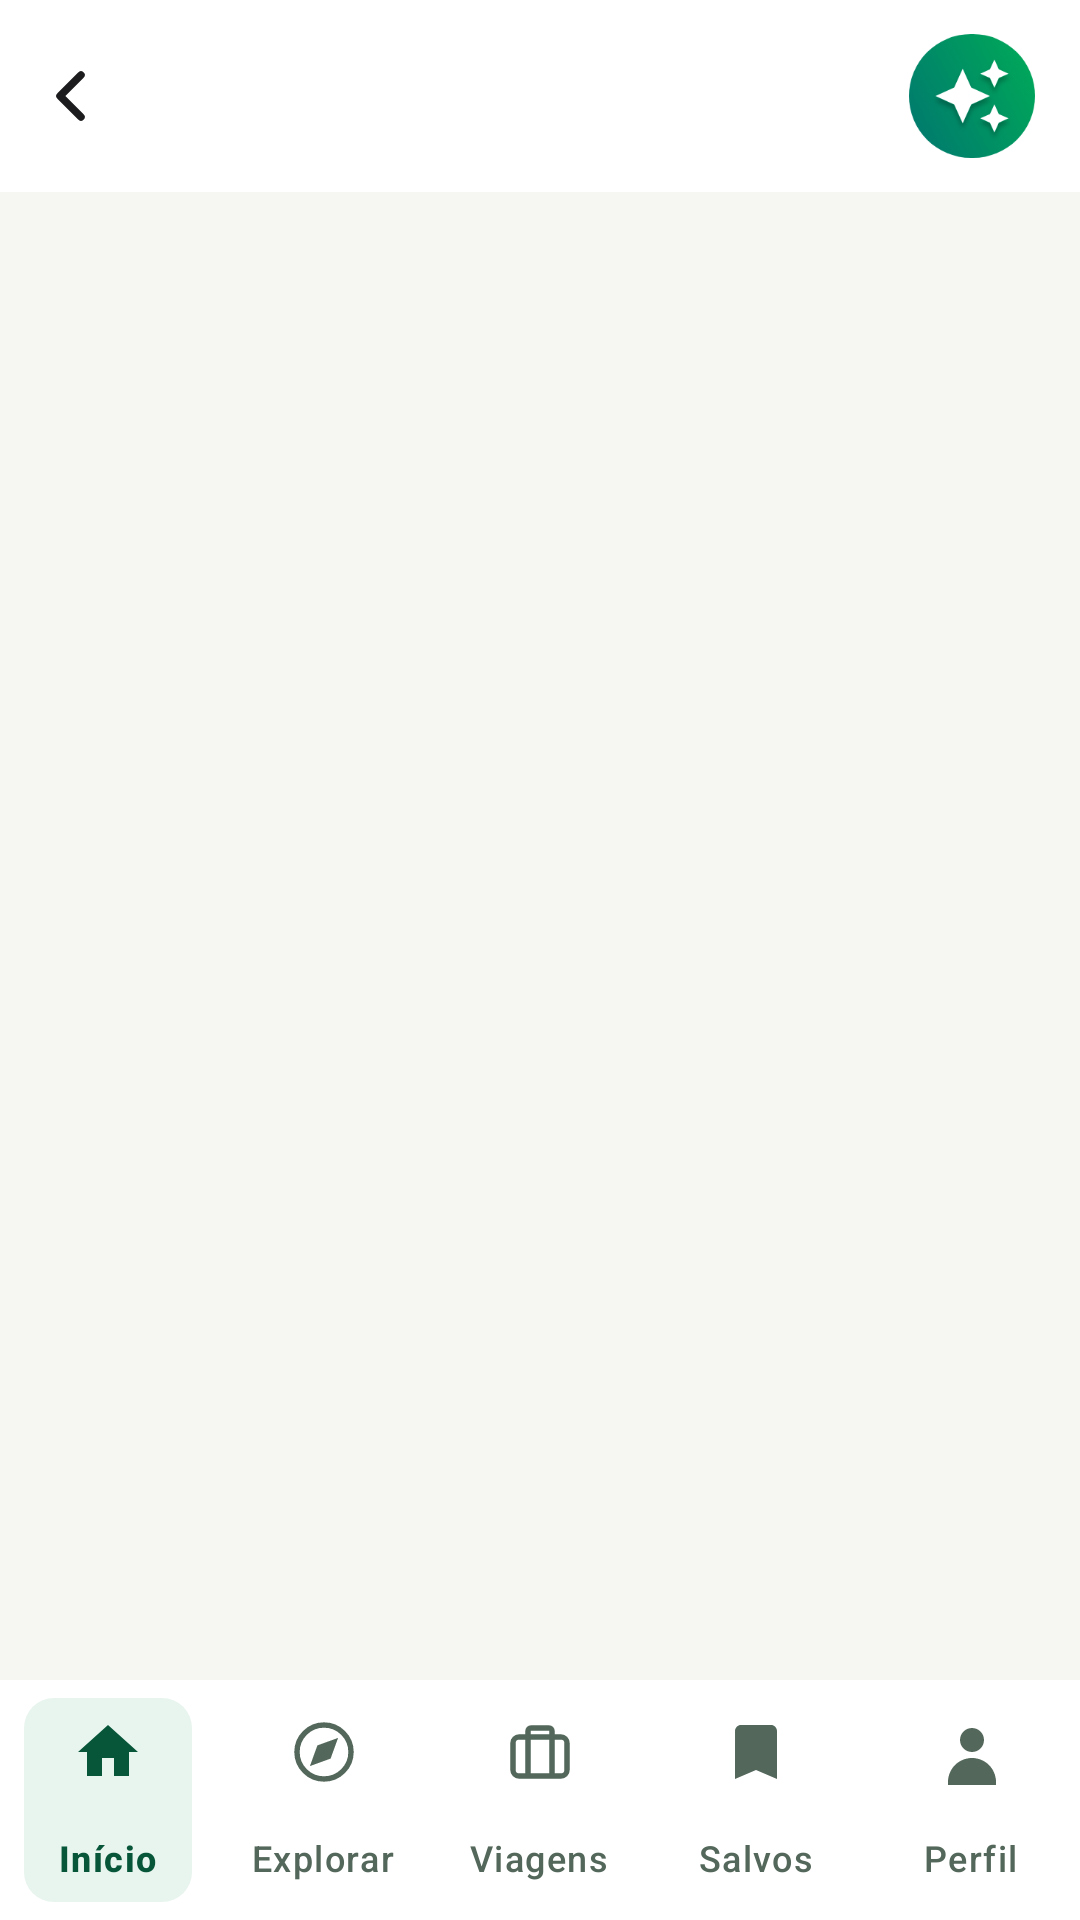

Named icons in this screenshot (1080 x 1920) and their bounding boxes, (x1, y1, x2, y2):
Voltar: (56, 71, 85, 121)
